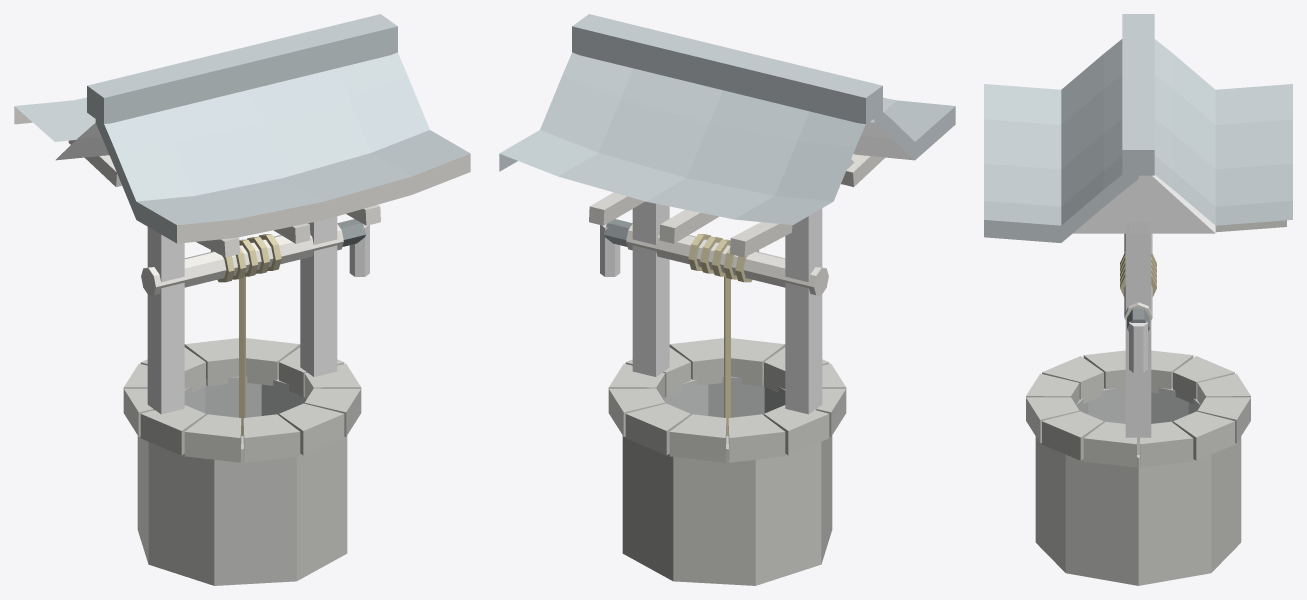
Rendered from well.glb.
The picture shows the model from 3 angles, left to right: view 1: azimuth 30°, elevation 25°; view 2: azimuth 150°, elevation 25°; view 3: azimuth 270°, elevation 25°; orthographic projection. The views are drawn at different scales.
Visible parts, largest first — view 1: well; view 2: well; view 3: well.
Boxes of the visible parts, box(x1,y1,x2,y2) form: well: box(14, 14, 470, 585); well: box(499, 14, 955, 585); well: box(984, 14, 1292, 585).
Bounding box in the file's own units: 3.12 × 4.94 × 3.
